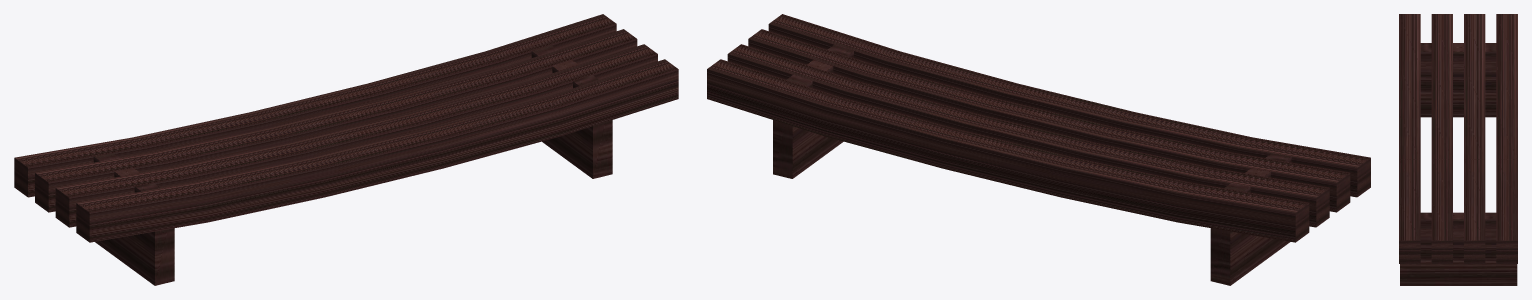
File: Wooden_bench.fbx
3 views of the same model, side by side, from view 1: azimuth 30°, elevation 25°; view 2: azimuth 150°, elevation 25°; view 3: azimuth 270°, elevation 25° (orthographic). The views are drawn at different scales.
Parts seen in each view (by area): view 1: pCube8; view 2: pCube8; view 3: pCube8.
Part boxes in pixels (x1,y1,x2,y2): pCube8: [14, 14, 678, 285]; pCube8: [707, 14, 1370, 285]; pCube8: [1399, 14, 1517, 285].
Size of the model in its own units: 10.28 by 1.5 by 2.28.
1 material, 1 textured.
